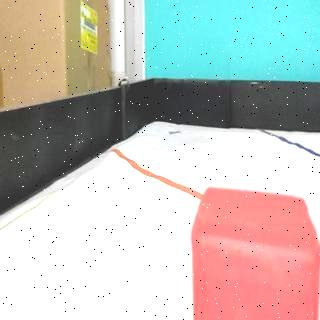redbox: (190, 185, 320, 320)
